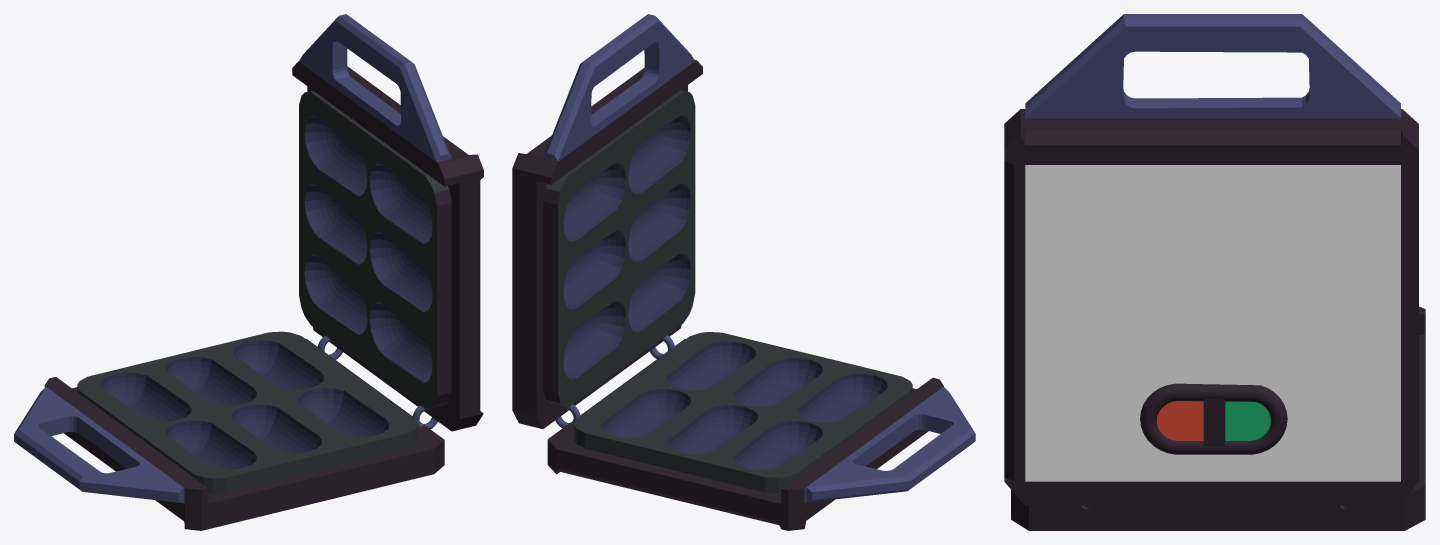
Rendered from MaszynaDoHoTDogow.v1.fbx.
3 views of the same model, side by side, from view 1: azimuth 30°, elevation 25°; view 2: azimuth 150°, elevation 25°; view 3: azimuth 270°, elevation 25° (orthographic). The views are drawn at different scales.
Visible parts, largest first — view 1: MaszynaDoHoTDogow.v1; view 2: MaszynaDoHoTDogow.v1; view 3: MaszynaDoHoTDogow.v1.
Boxes of the visible parts, left/top/right/bottom form: MaszynaDoHoTDogow.v1: left=14, top=14, right=483, bottom=530; MaszynaDoHoTDogow.v1: left=512, top=14, right=975, bottom=530; MaszynaDoHoTDogow.v1: left=1004, top=14, right=1425, bottom=530.
Size of the model in its own units: 256 by 259 by 188.
